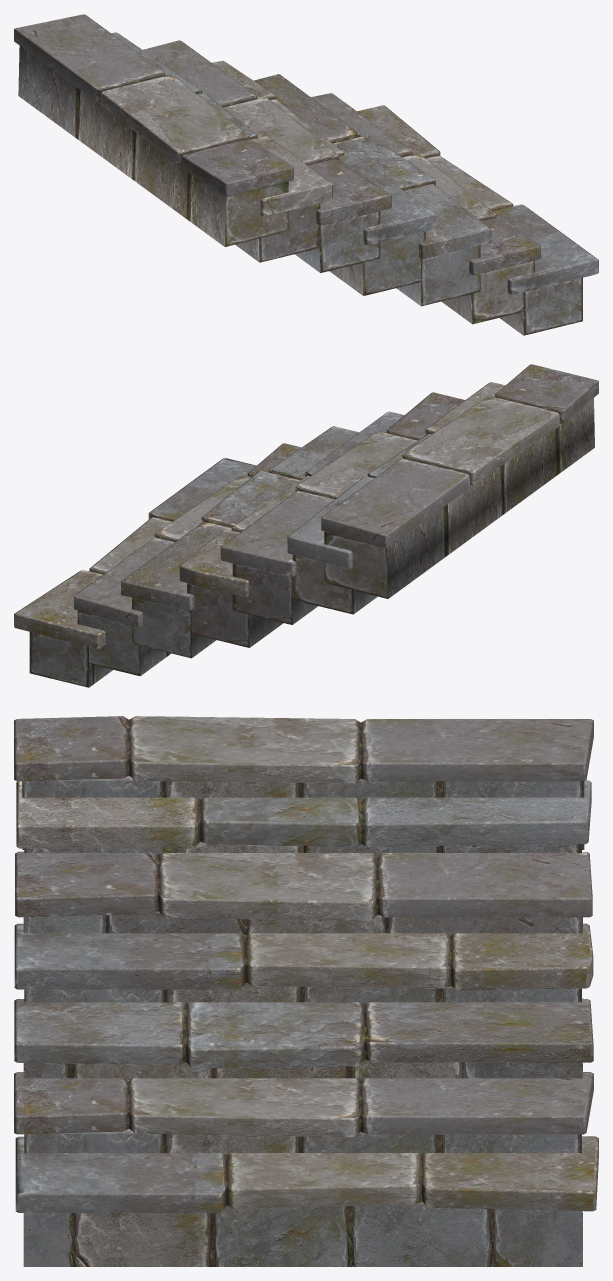
3 renders of one model, top to bottom at view 1: azimuth 30°, elevation 25°; view 2: azimuth 150°, elevation 25°; view 3: azimuth 270°, elevation 25°, orthographic. The views are drawn at different scales.
Parts seen in each view (by area): view 1: SM_BB_T3_Stairs_Shallow_LOD0; view 2: SM_BB_T3_Stairs_Shallow_LOD0; view 3: SM_BB_T3_Stairs_Shallow_LOD0.
Boxes of the visible parts, <box> form: SM_BB_T3_Stairs_Shallow_LOD0: <box>14,14,598,335</box>; SM_BB_T3_Stairs_Shallow_LOD0: <box>14,364,598,687</box>; SM_BB_T3_Stairs_Shallow_LOD0: <box>14,716,598,1266</box>.
Size of the model in its own units: 1.56 by 0.898 by 1.54.
1 material, 1 textured.
